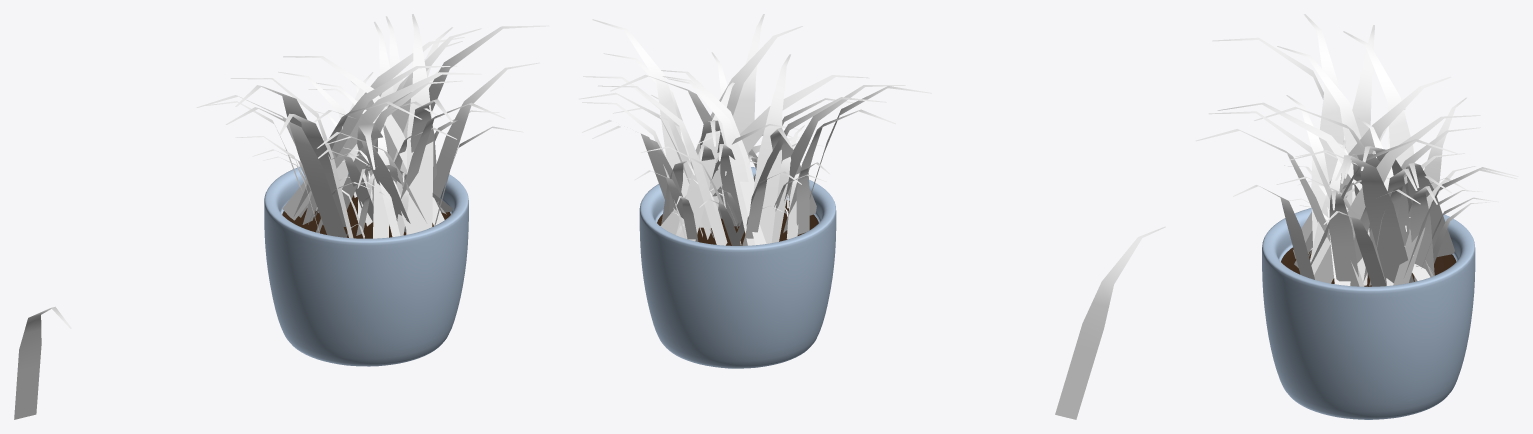
Rendered from flower.glb.
3 renders of one model, left to right at view 1: azimuth 30°, elevation 25°; view 2: azimuth 150°, elevation 25°; view 3: azimuth 270°, elevation 25°, orthographic. The views are drawn at different scales.
Visible parts, largest first — view 1: Cylinder, Plane (×23); view 2: Plane (×20), Cylinder; view 3: Plane (×30), Cylinder.
Part boxes in pixels (box(x1,y1,x2,y2)): Cylinder: box(264, 166, 468, 366); Plane (×23): box(14, 14, 549, 419); Plane (×20): box(582, 14, 1165, 419); Cylinder: box(639, 167, 836, 368); Plane (×30): box(1195, 14, 1517, 286); Cylinder: box(1262, 208, 1475, 419).
Bounding box in the file's own units: 5.91 × 2.98 × 2.96.
